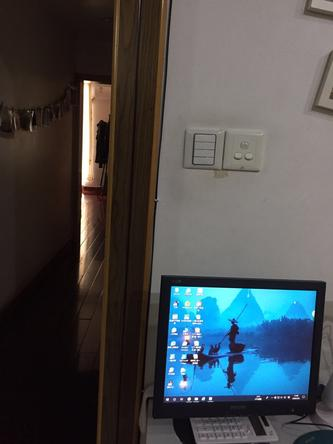switch: (193, 133, 217, 142), (192, 156, 215, 165), (193, 142, 216, 150), (192, 149, 217, 156), (232, 150, 243, 160), (239, 140, 250, 149), (246, 152, 255, 161)
